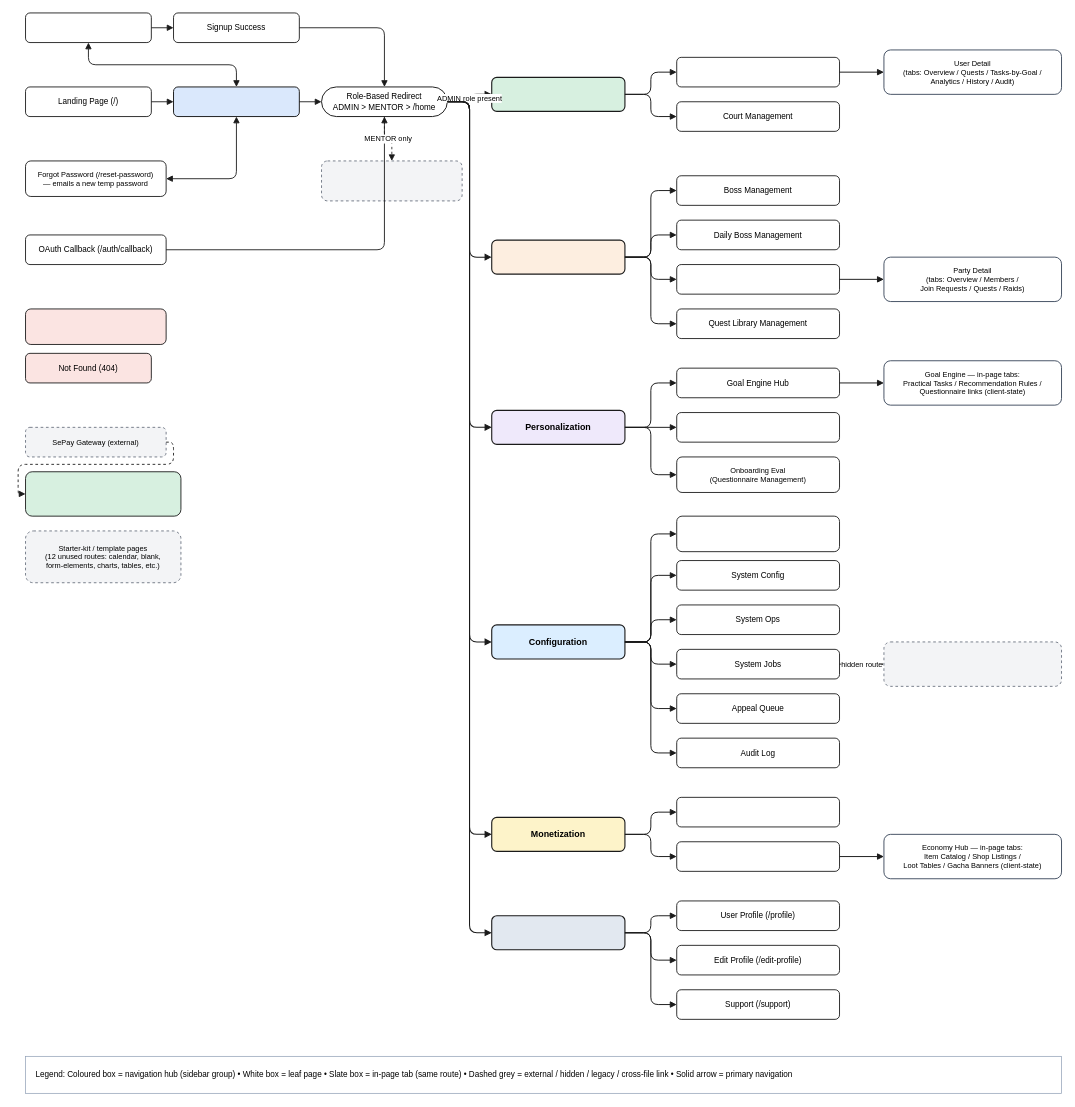
Some shapes in this 1075 by 1107 pixel diagram are drawn without their labels. Each missing label, with the centre of its shape:
"Account Menu" belongs at [558,932].
"Calc Rules (Target Rule Management)" belongs at [758,533].
"Core" belongs at [558,94].
"Economy Hub" belongs at [758,856].
"Gameplay" belongs at [558,256].
"Goal Relationships Mgmt" belongs at [758,427].
"Jobs Monitor (/admin/jobs) [hidden — sidebar entry disabled, direct URL only]" belongs at [972,663].
"Party Management" belongs at [758,279].
"Payment Result /checkout/success|fail, /checkout, /mentor/payment/callback" belongs at [103,493].
"Sign In (/login)" belongs at [236,101].
"Sign Up (/signup)" belongs at [88,27].
"Subscription Packages" belongs at [758,812].
"Unauthorized (/unauthorized) — role check failed on any route" belongs at [95,326].
"User Management" belongs at [758,72].
"↦ Mentor Portal (see screen-flow-mentor.drawio) MENTOR-only accounts" belongs at [391,180].
